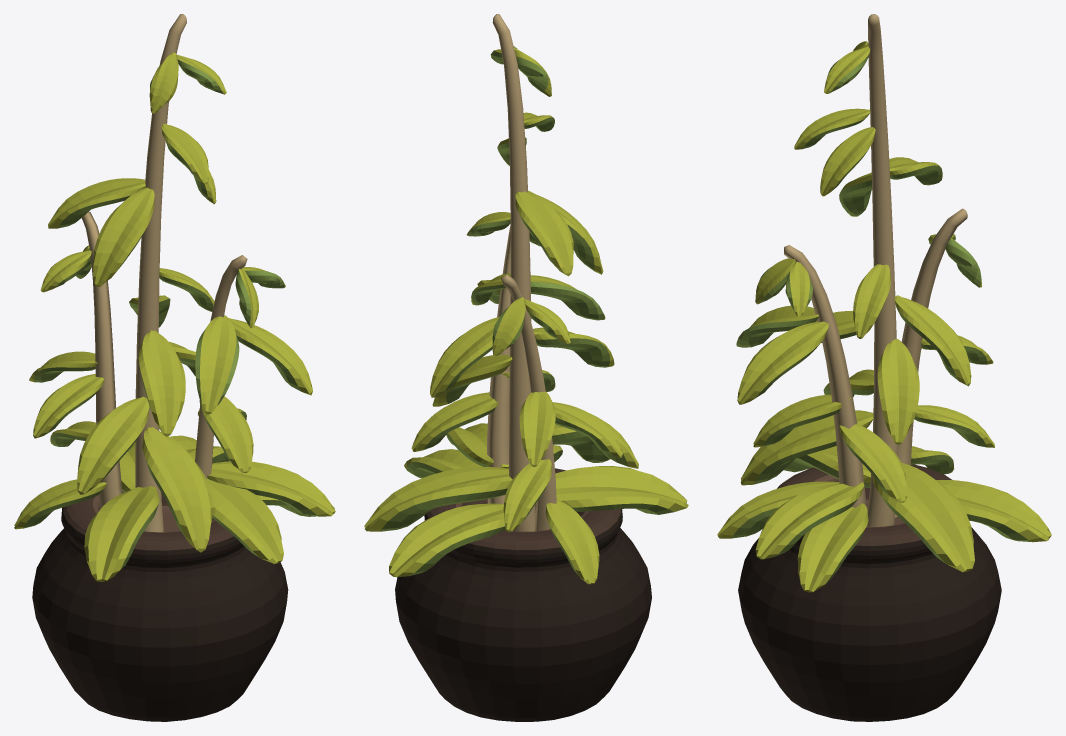
Rendered from 3D_Plant4.fbx.
The picture shows the model from 3 angles, left to right: view 1: azimuth 30°, elevation 25°; view 2: azimuth 150°, elevation 25°; view 3: azimuth 270°, elevation 25°; orthographic projection. The views are drawn at different scales.
Parts seen in each view (by area): view 1: 3D_Plant4; view 2: 3D_Plant4; view 3: 3D_Plant4.
Part boxes in pixels (<box>): 3D_Plant4: <box>14,14,335,721</box>; 3D_Plant4: <box>364,14,688,721</box>; 3D_Plant4: <box>717,14,1051,721</box>.
Size of the model in its own units: 84.03 by 207 by 91.
